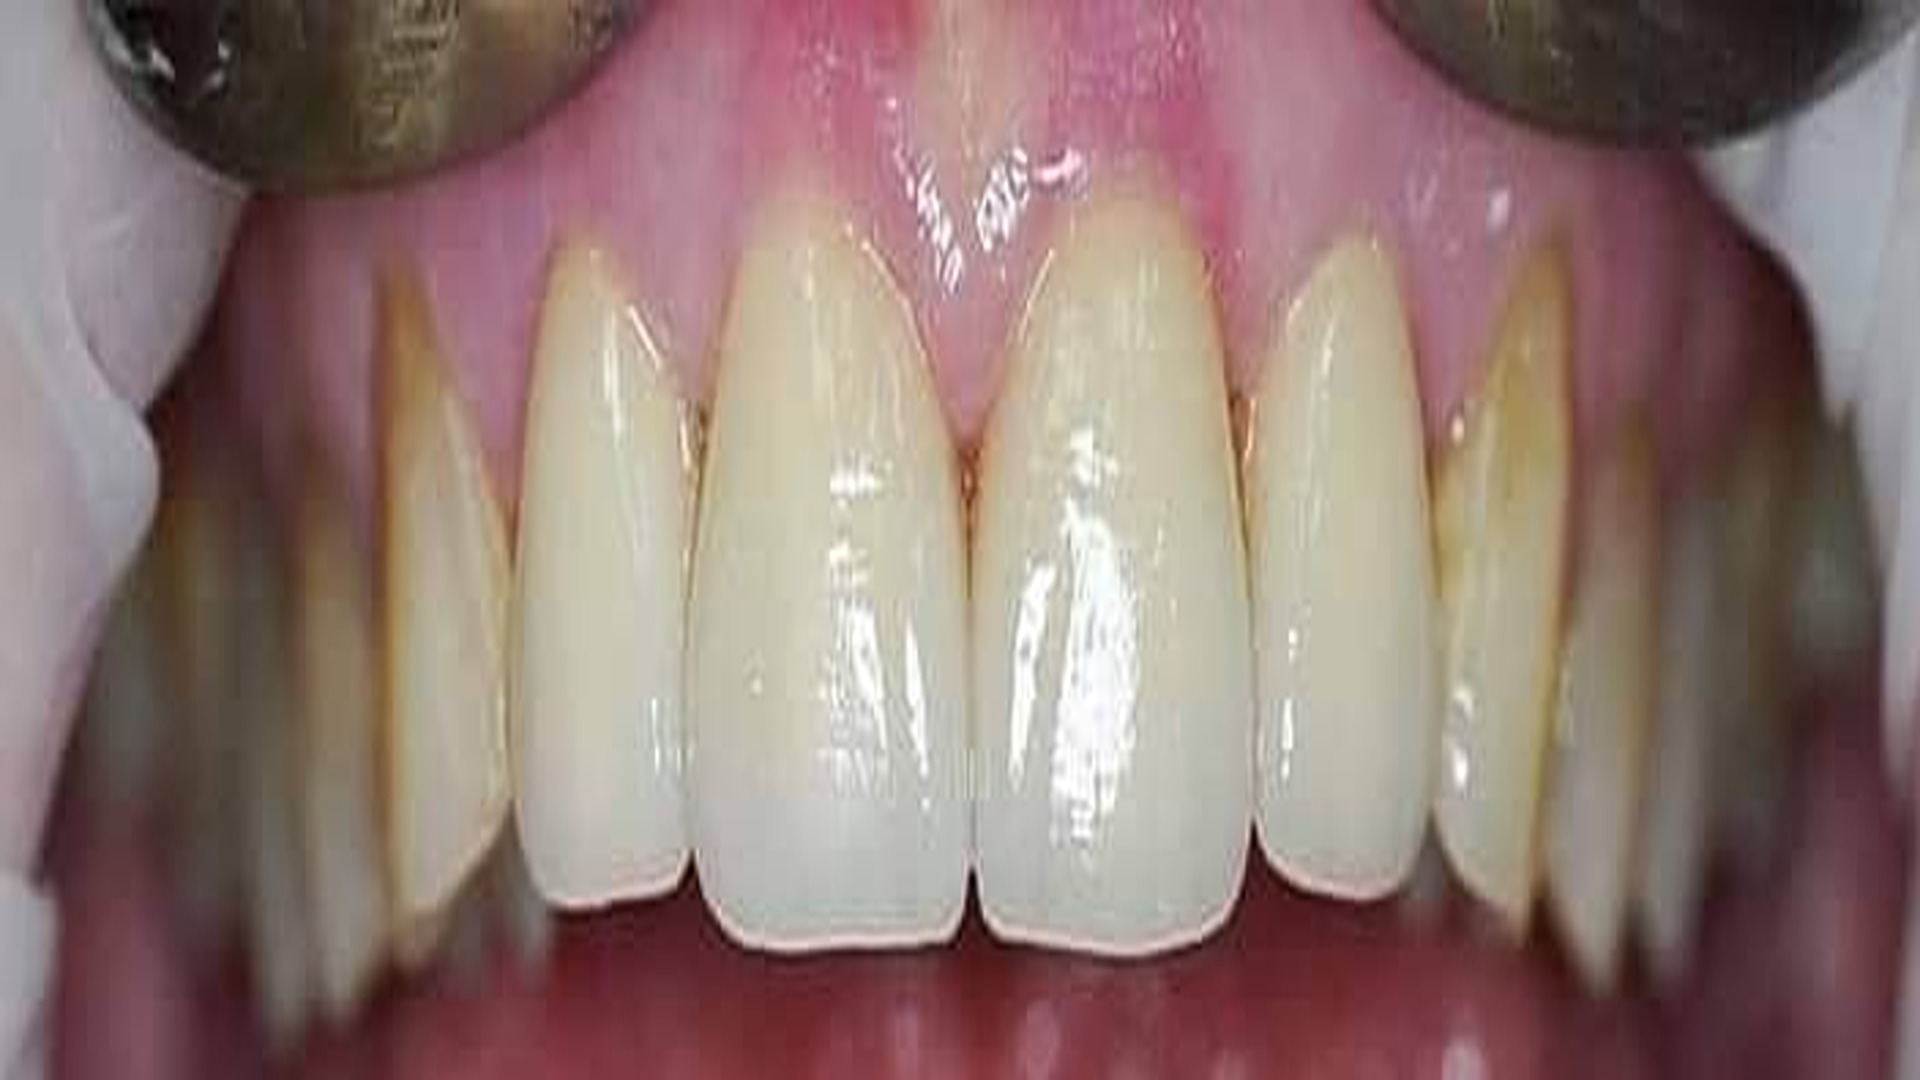tooth: (686, 196, 974, 950), (971, 191, 1253, 958), (1244, 225, 1440, 901), (512, 240, 698, 910), (1432, 242, 1573, 942), (375, 254, 514, 922), (1539, 401, 1660, 999)
